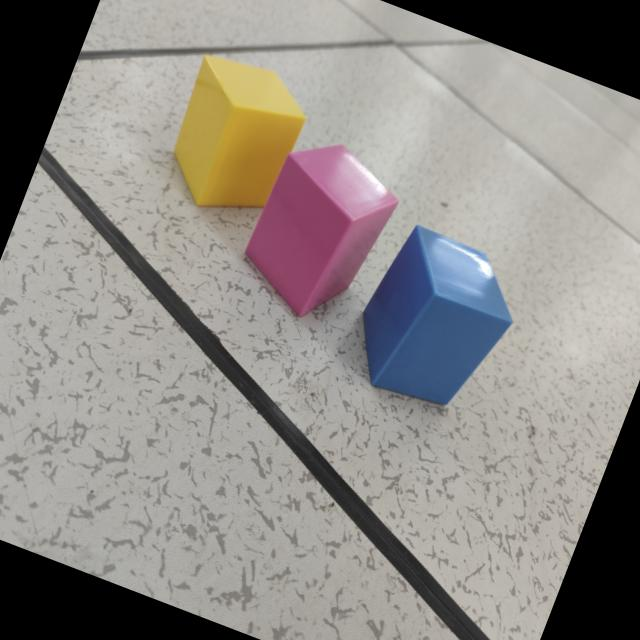blue: (362, 225, 512, 408)
pink: (243, 146, 397, 319)
yellow: (173, 57, 306, 210)
